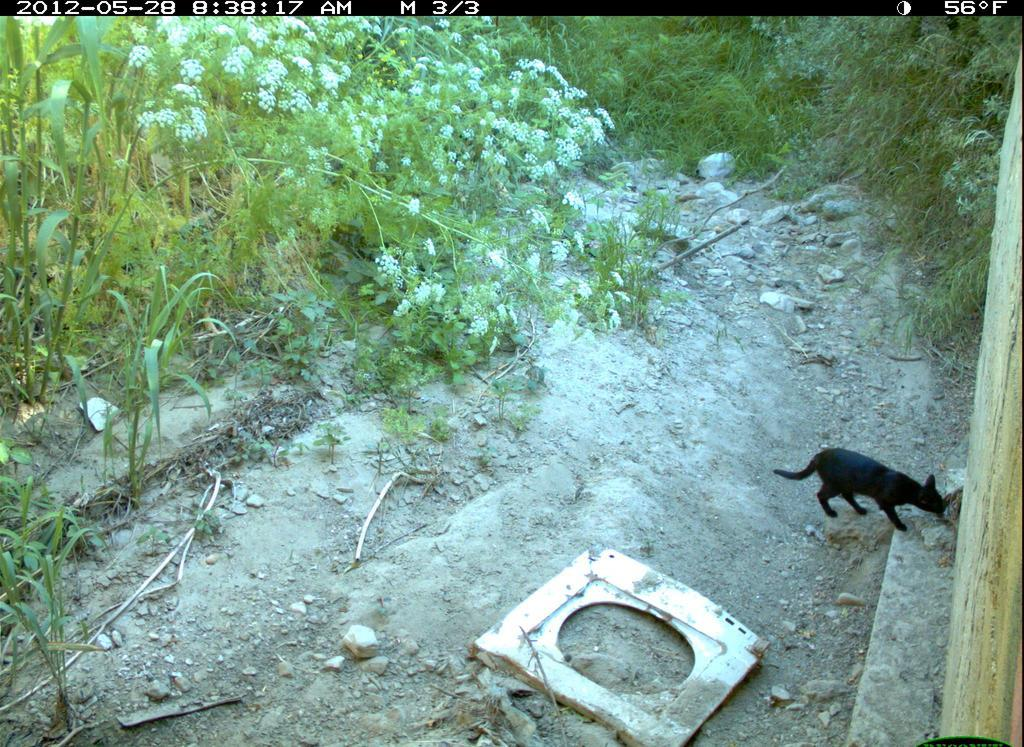cat: (751, 393, 952, 548)
